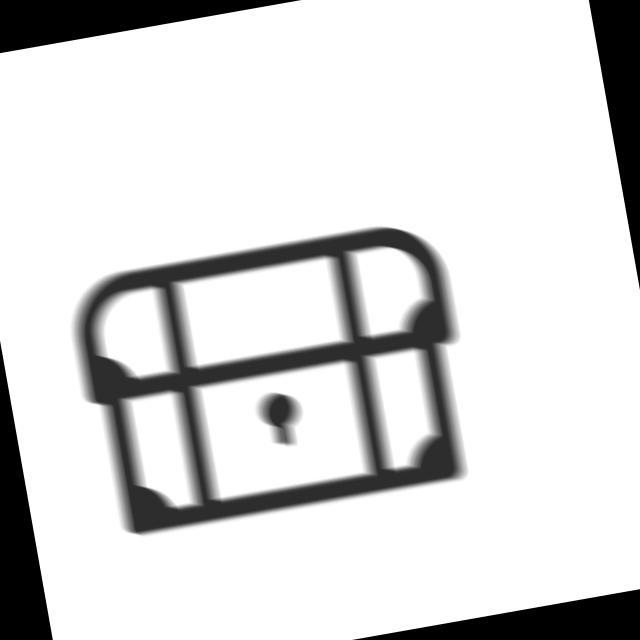treasure_box: (55, 204, 496, 549)
